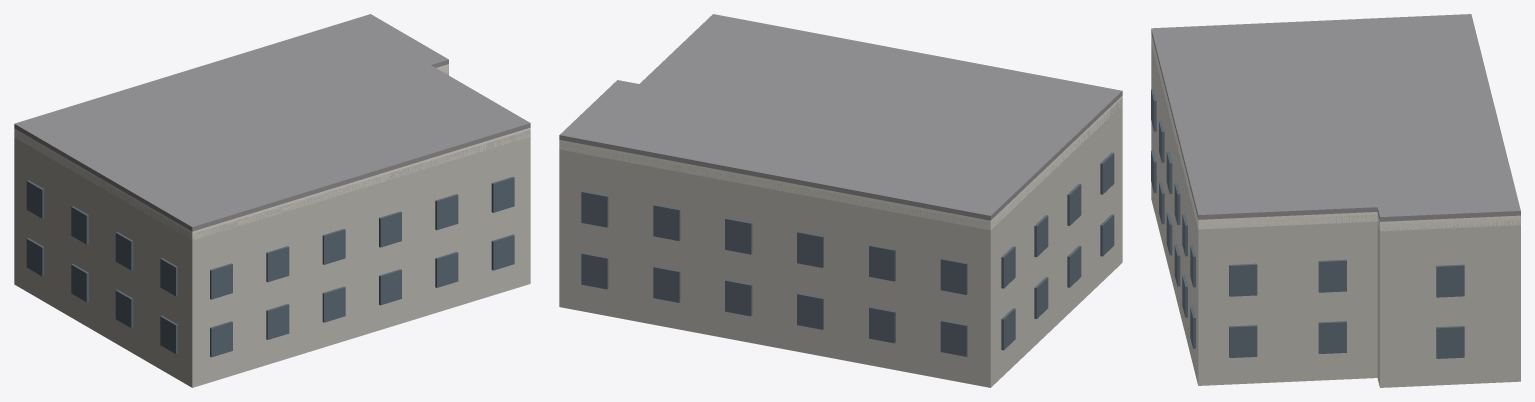
Rendered from s38_gis_248109_820692.glb.
The picture shows the model from 3 angles, left to right: view 1: azimuth 30°, elevation 25°; view 2: azimuth 150°, elevation 25°; view 3: azimuth 270°, elevation 25°; orthographic projection. The views are drawn at different scales.
Visible parts, largest first — view 1: mass, roofcap, cornice, win_4_1_1, win_4_0_2, win_4_0_4, win_4_0_5, win_4_1_5, win_4_0_1, win_4_1_2, win_4_1_4, win_4_1_0 (+11 smaller); view 2: mass, roofcap, cornice, win_2_0_0, win_2_1_0, win_2_0_1, win_2_0_5, win_2_1_2, win_2_1_5, win_2_1_1, win_2_0_2, win_2_0_3 (+11 smaller); view 3: roofcap, mass, cornice, win_1_1_0, win_5_1_0, win_5_1_1, win_1_0_0, win_5_0_0, win_5_0_1.
Boxes of the visible parts, left/top/right/bottom form: mass: left=14, top=67, right=530, bottom=387; roofcap: left=14, top=14, right=530, bottom=231; cornice: left=14, top=64, right=530, bottom=240; win_4_1_1: left=266, top=246, right=289, bottom=282; win_4_0_2: left=322, top=286, right=345, bottom=322; win_4_0_4: left=435, top=252, right=458, bottom=287; win_4_0_5: left=491, top=234, right=514, bottom=270; win_4_1_5: left=491, top=176, right=514, bottom=212; win_4_0_1: left=266, top=304, right=289, bottom=339; win_4_1_2: left=322, top=229, right=345, bottom=264; win_4_1_4: left=435, top=194, right=458, bottom=229; win_4_1_0: left=210, top=263, right=232, bottom=299; mass: left=559, top=98, right=1122, bottom=387; roofcap: left=559, top=14, right=1122, bottom=220; cornice: left=559, top=96, right=1122, bottom=230; win_2_0_0: left=581, top=252, right=608, bottom=289; win_2_1_0: left=581, top=191, right=608, bottom=227; win_2_0_1: left=653, top=266, right=680, bottom=302; win_2_0_5: left=940, top=320, right=967, bottom=356; win_2_1_2: left=725, top=218, right=752, bottom=254; win_2_1_5: left=940, top=258, right=967, bottom=294; win_2_1_1: left=653, top=204, right=680, bottom=240; win_2_0_2: left=725, top=279, right=752, bottom=316; win_2_0_3: left=797, top=293, right=823, bottom=329; roofcap: left=1151, top=14, right=1520, bottom=221; mass: left=1151, top=40, right=1520, bottom=387; cornice: left=1151, top=34, right=1520, bottom=231; win_1_1_0: left=1436, top=264, right=1464, bottom=297; win_5_1_0: left=1229, top=263, right=1257, bottom=296; win_5_1_1: left=1318, top=259, right=1346, bottom=292; win_1_0_0: left=1436, top=326, right=1464, bottom=358; win_5_0_0: left=1229, top=325, right=1257, bottom=357; win_5_0_1: left=1318, top=321, right=1346, bottom=353.
Bounding box in the file's own units: 21.3 × 8.35 × 16.39.
